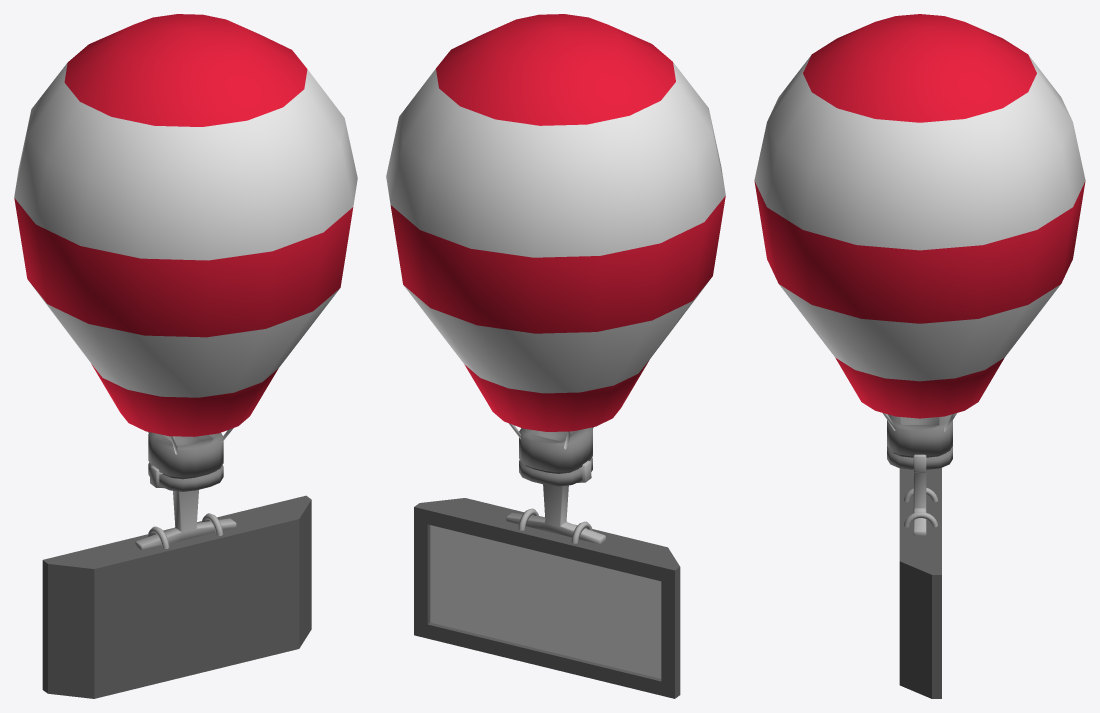
File: balloon_panel.fbx
3 renders of one model, left to right at view 1: azimuth 30°, elevation 25°; view 2: azimuth 150°, elevation 25°; view 3: azimuth 270°, elevation 25°, orthographic. The views are drawn at different scales.
Visible parts, largest first — view 1: balloon, attach_to_balloon; view 2: balloon, attach_to_balloon; view 3: balloon, attach_to_balloon.
Boxes of the visible parts, <box> form: balloon: <box>14,14,357,491</box>; attach_to_balloon: <box>42,465,311,698</box>; balloon: <box>386,14,725,486</box>; attach_to_balloon: <box>414,460,680,698</box>; balloon: <box>754,14,1085,469</box>; attach_to_balloon: <box>899,454,941,698</box>.
Size of the model in its own units: 33.58 by 33.58 by 68.03.
